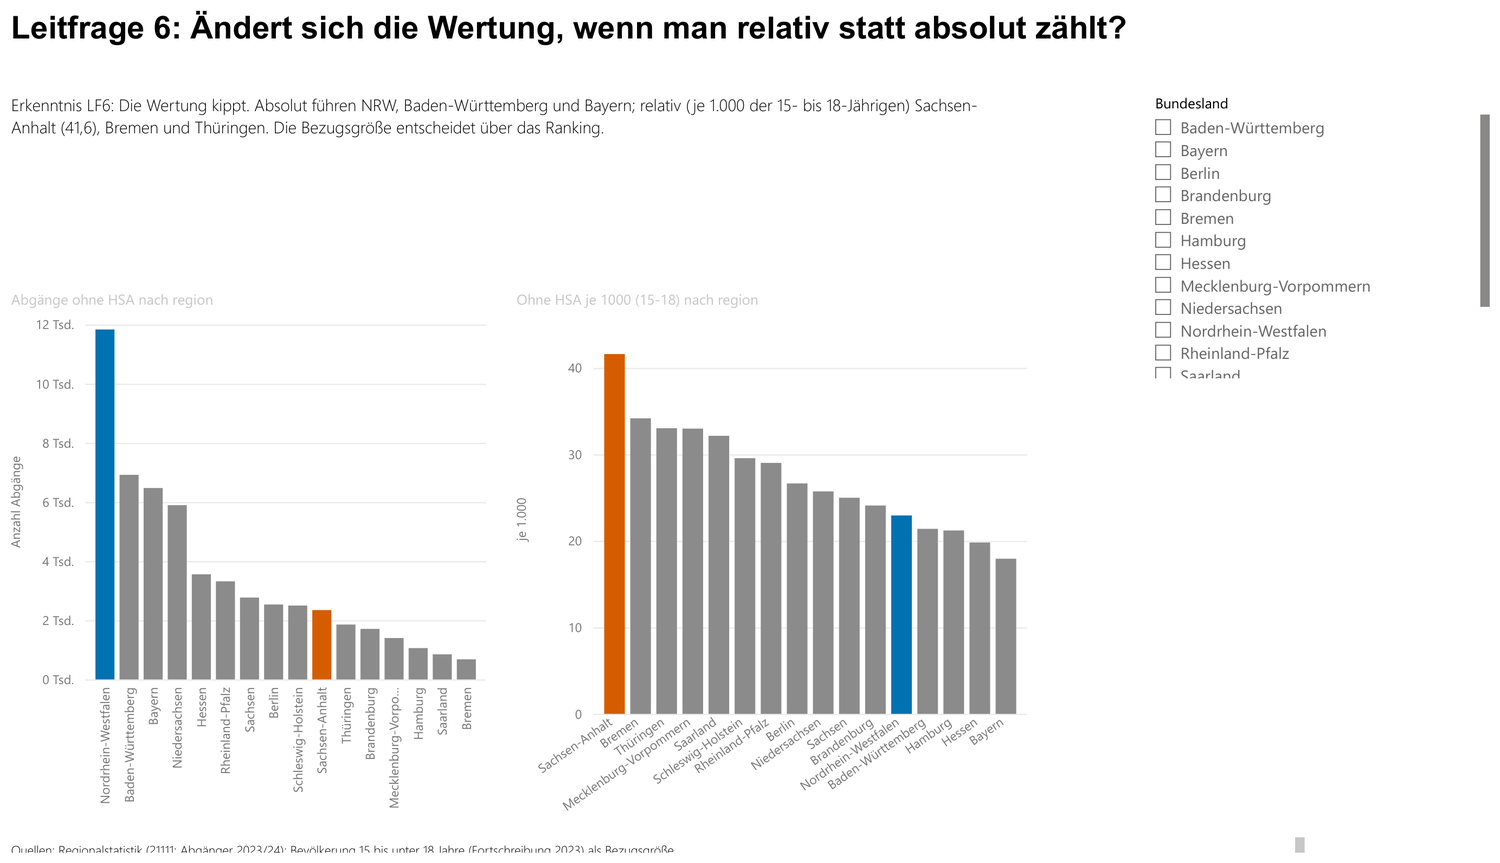

The dashboard page shown, as its layout file describes it:
{"tool":"powerbi","page":{"name":"LF6 Absolut vs. relativ (ohne HSA)","canvas":[1280,720],"ordinal":6},"visuals":[{"type":"clusteredColumnChart","fields":{"Category":["dim_region.region"],"Y":["dim_abschluss.Ohne HSA je 1000 (15-18)"]},"box":[450,240,440,456],"z":0},{"type":"clusteredColumnChart","fields":{"Category":["dim_region.region"],"Y":["dim_abschluss.Abgänge ohne HSA"]},"box":[24,240,410,456],"z":1000},{"type":"textbox","box":[24,70,836,82.5],"z":2000},{"type":"slicer","fields":{"Values":["dim_region.Land"]},"box":[980,70,300,250],"z":3000},{"type":"textbox","box":[24,0,1067,83],"z":3001},{"type":"textbox","box":[24,697,1100,23],"z":8500}]}

Visuals, with their boxes in screenshot pixels (x1, y1, x2, y2), scaled from the page's 1280x720 canvas onto the 1500x863 screenshot:
clusteredColumnChart - dim_region.region x dim_abschluss.Ohne HSA je 1000 (15-18): bbox=(527, 288, 1043, 834)
clusteredColumnChart - dim_region.region x dim_abschluss.Abgänge ohne HSA: bbox=(28, 288, 509, 834)
textbox: bbox=(28, 84, 1008, 183)
slicer - dim_region.Land: bbox=(1148, 84, 1499, 384)
textbox: bbox=(28, 0, 1279, 99)
textbox: bbox=(28, 835, 1317, 862)
